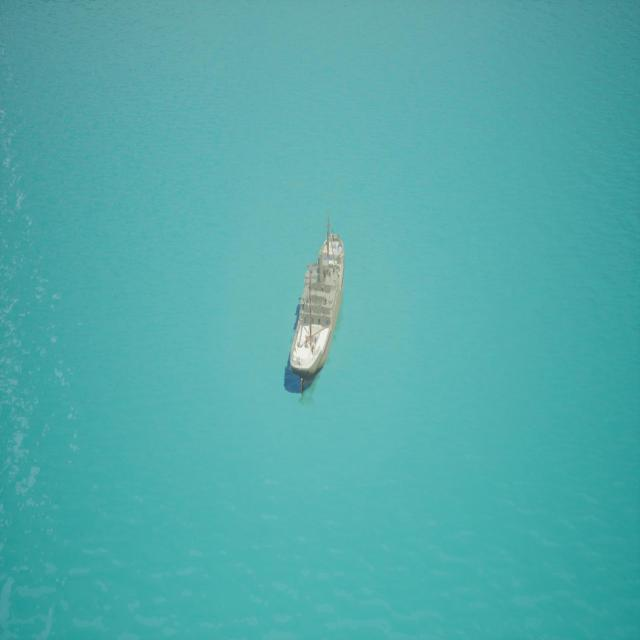fishing ship: (288, 217, 348, 403)
